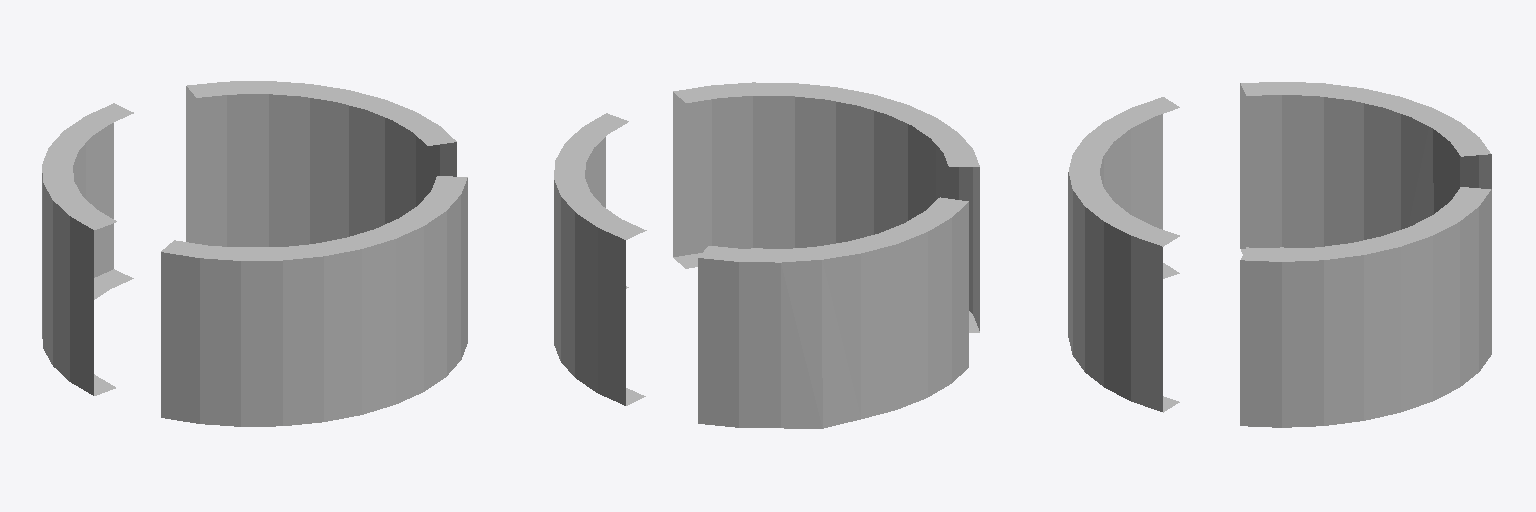
File: salafinalneg.obj
The picture shows the model from 3 angles: view 1: azimuth 30°, elevation 25°; view 2: azimuth 150°, elevation 25°; view 3: azimuth 270°, elevation 25°; orthographic projection.
Parts seen in each view (by area): view 1: Cylinder; view 2: Cylinder; view 3: Cylinder.
Boxes of the visible parts, x1=… form: Cylinder: x1=42, y1=81, x2=467, y2=426; Cylinder: x1=554, y1=82, x2=979, y2=428; Cylinder: x1=1068, y1=82, x2=1491, y2=427.
Size of the model in its own units: 14 by 6.09 by 13.87.